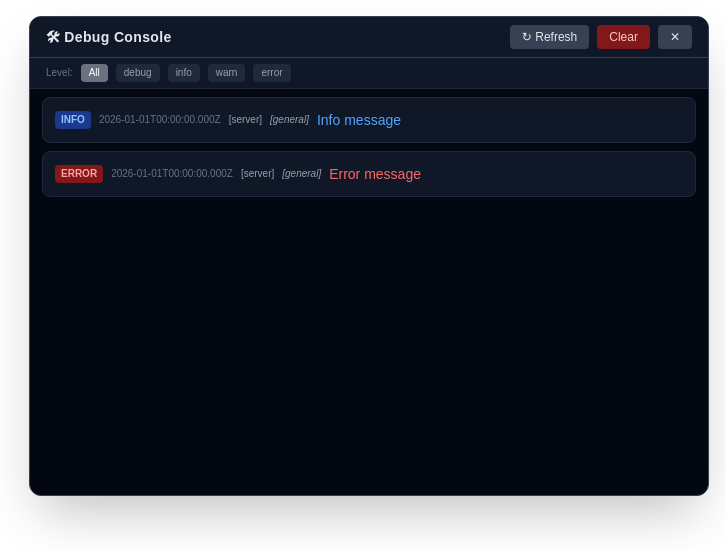
Test: DebugPanel — level filter › hides non-matching entries when a level filter is applied
Expected: the text "Info message" is shown, 317,112 -> 401,128
Expected: the text "Error message" is shown, 329,166 -> 421,182
Click the button with aria-label "filter by error" at {"x": 272, "y": 73}, box 253,64 -> 290,82
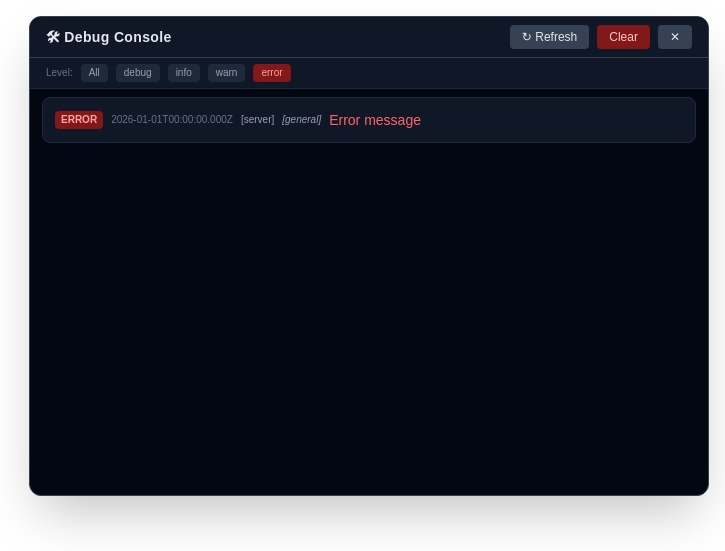
Expected: the text "Error message" is shown, 329,112 -> 421,128
Expected: the text "Info message" is gone
